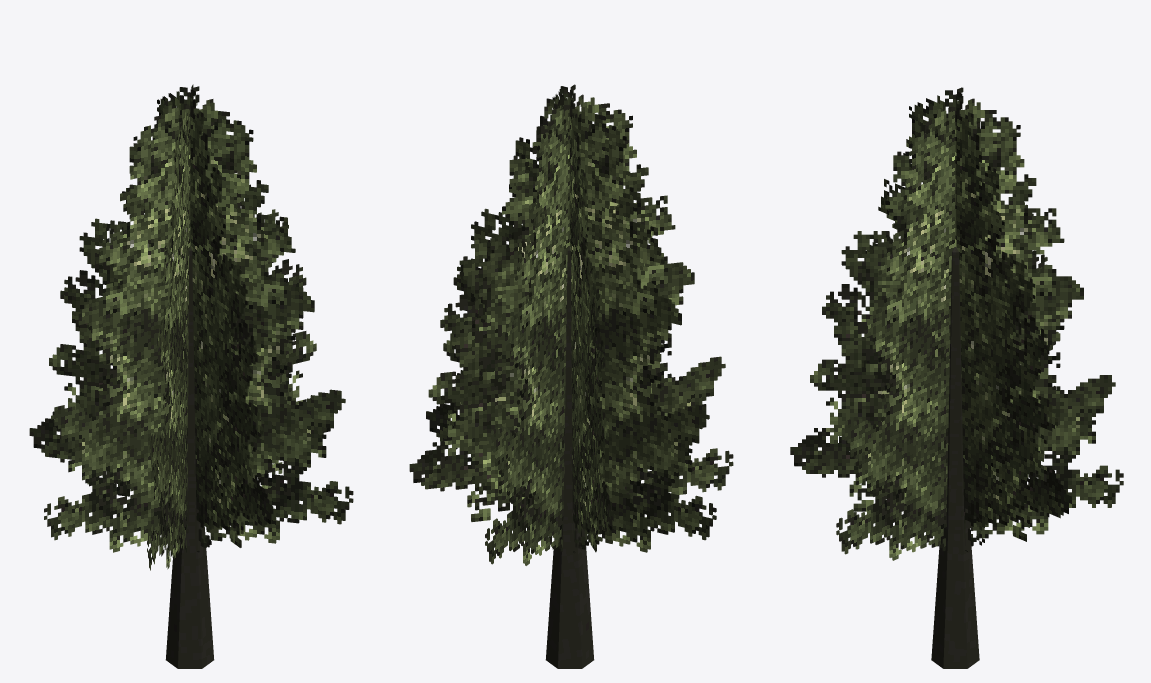
The model's file is tree11.glb.
The picture shows the model from 3 angles, left to right: view 1: azimuth 30°, elevation 25°; view 2: azimuth 150°, elevation 25°; view 3: azimuth 270°, elevation 25°; orthographic projection.
Visible parts, largest first — view 1: tree11; view 2: tree11; view 3: tree11.
Boxes of the visible parts, x1,y1,x2,y2 form: tree11: (29,84,353,668); tree11: (409,84,733,668); tree11: (790,87,1123,668).
Size of the model in its own units: 4.61 by 8 by 4.61.
1 material, 1 textured.
